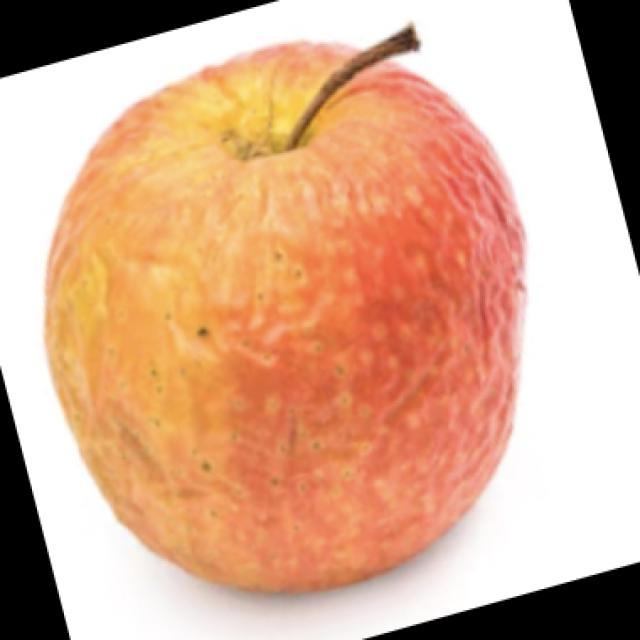Rotten: (75, 44, 522, 594)
